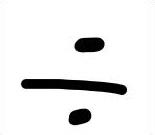div: (22, 38, 127, 125)
